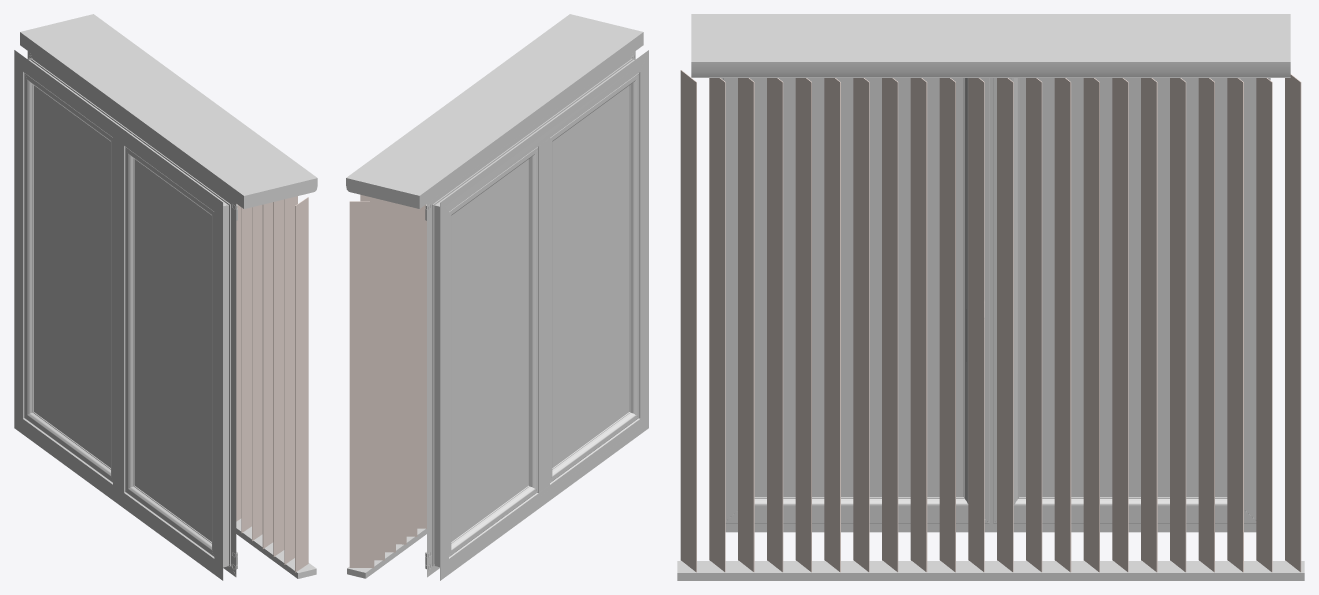
File: Окно c жалюзи.fbx
The picture shows the model from 3 angles, left to right: view 1: azimuth 30°, elevation 25°; view 2: azimuth 150°, elevation 25°; view 3: azimuth 270°, elevation 25°; orthographic projection. The views are drawn at different scales.
Parts seen in each view (by area): view 1: Правая створка.001, Левая створка.001, Рама.002, Жалюзи пластины, Подоконник, Кронштейн; view 2: Левая створка.001, Правая створка.001, Жалюзи пластины, Рама.002, Подоконник, Кронштейн; view 3: Жалюзи пластины, Правая створка.001, Левая створка.001, Подоконник, Кронштейн, Рама.002.
Part boxes in pixels (box(x1,y1,x2,y2)): Правая створка.001: box(125, 147, 237, 556); Левая створка.001: box(24, 73, 112, 482); Рама.002: box(14, 50, 237, 580); Жалюзи пластины: box(236, 196, 308, 572); Подоконник: box(20, 14, 317, 208); Кронштейн: box(236, 518, 316, 578); Левая створка.001: box(425, 147, 537, 556); Правая створка.001: box(550, 73, 638, 482); Жалюзи пластины: box(349, 194, 426, 568); Рама.002: box(425, 50, 648, 580); Подоконник: box(346, 14, 643, 208); Кронштейн: box(347, 528, 426, 578); Жалюзи пластины: box(680, 70, 1301, 572); Правая створка.001: box(723, 78, 989, 523); Левая створка.001: box(993, 78, 1256, 523); Подоконник: box(691, 14, 1290, 77); Кронштейн: box(677, 561, 1304, 580); Рама.002: box(721, 78, 1270, 532).
Bounding box in the file's own units: 0.4624 × 1.99 × 2.16.
